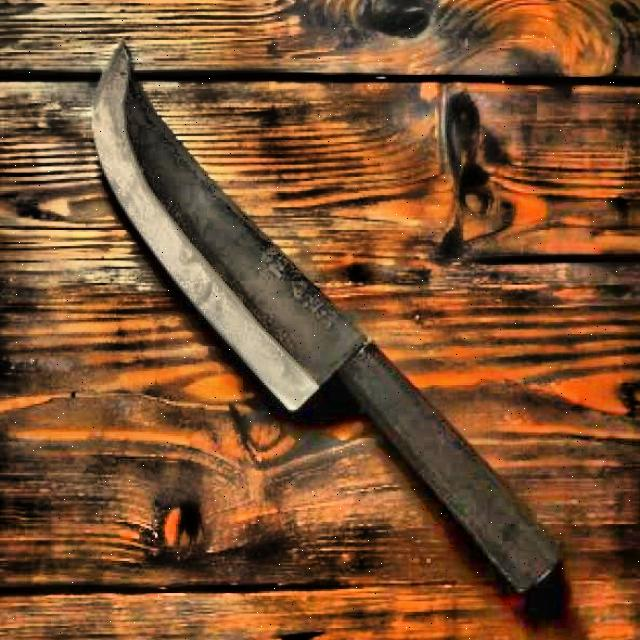knife: (86, 41, 576, 612)
